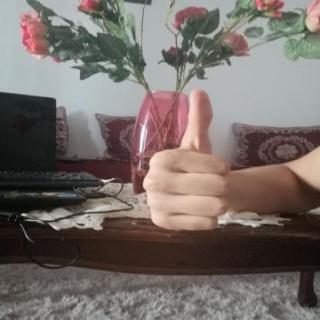ALIF: (134, 81, 243, 235)
